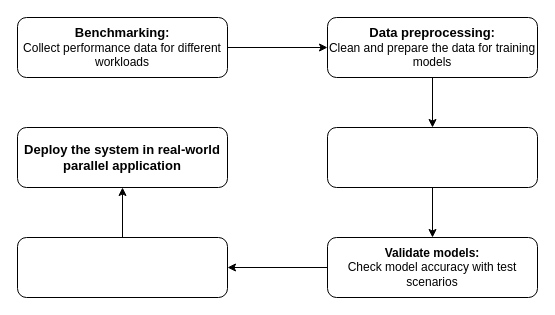
Some shapes in this 555 by 315 pixel diagram are drawn without their labels. Here are the shapes that lost their labels. From the top down, the centre of each, then its label:
At [432,157]: "Train models : Build and test machine learning models to predict performance".
At [122,267]: "Optimization mechanism : Use fitted model to find optimal configuration".
